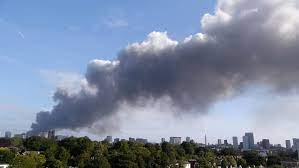smoke: (45, 2, 299, 129)
